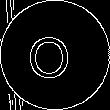O_N: (34, 30, 76, 80)
